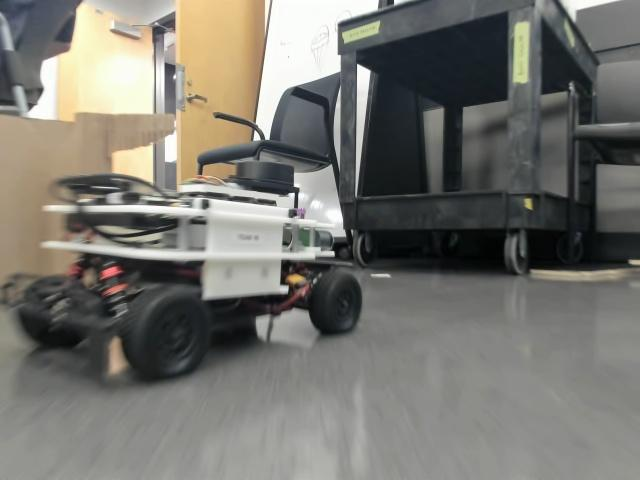Car: (0, 158, 362, 378)
